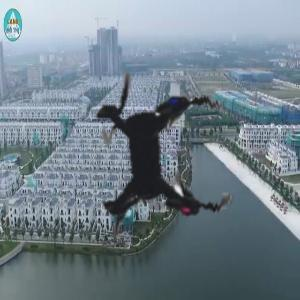drone: (2, 2, 300, 300)
